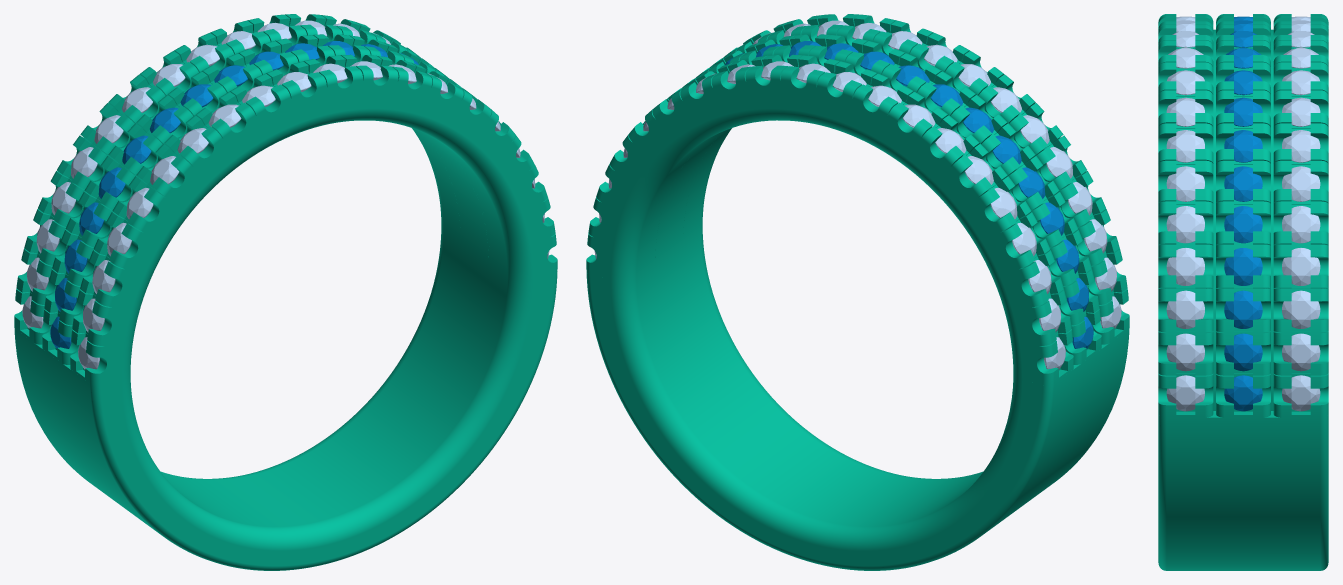
The picture shows the model from 3 angles, left to right: view 1: azimuth 30°, elevation 25°; view 2: azimuth 150°, elevation 25°; view 3: azimuth 270°, elevation 25°; orthographic projection. The views are drawn at different scales.
Visible parts, largest first — view 1: VR923 - L 1.2 D2(front).3dm; view 2: VR923 - L 1.2 D2(front).3dm; view 3: VR923 - L 1.2 D2(front).3dm, Diamond_Round (×33).
Part boxes in pixels (x1,y1,x2,y2): VR923 - L 1.2 D2(front).3dm: [14, 14, 557, 570]; VR923 - L 1.2 D2(front).3dm: [586, 14, 1129, 570]; VR923 - L 1.2 D2(front).3dm: [1158, 14, 1328, 570]; Diamond_Round (×33): [1166, 31, 1320, 411].
Size of the model in its own units: 2.76 by 2.76 by 0.8444.
